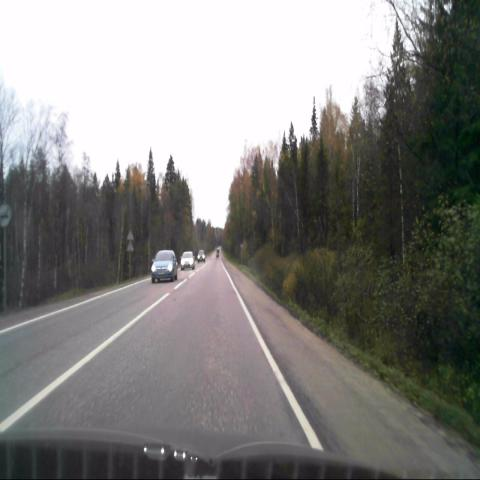3_21: (0, 204, 11, 228)
